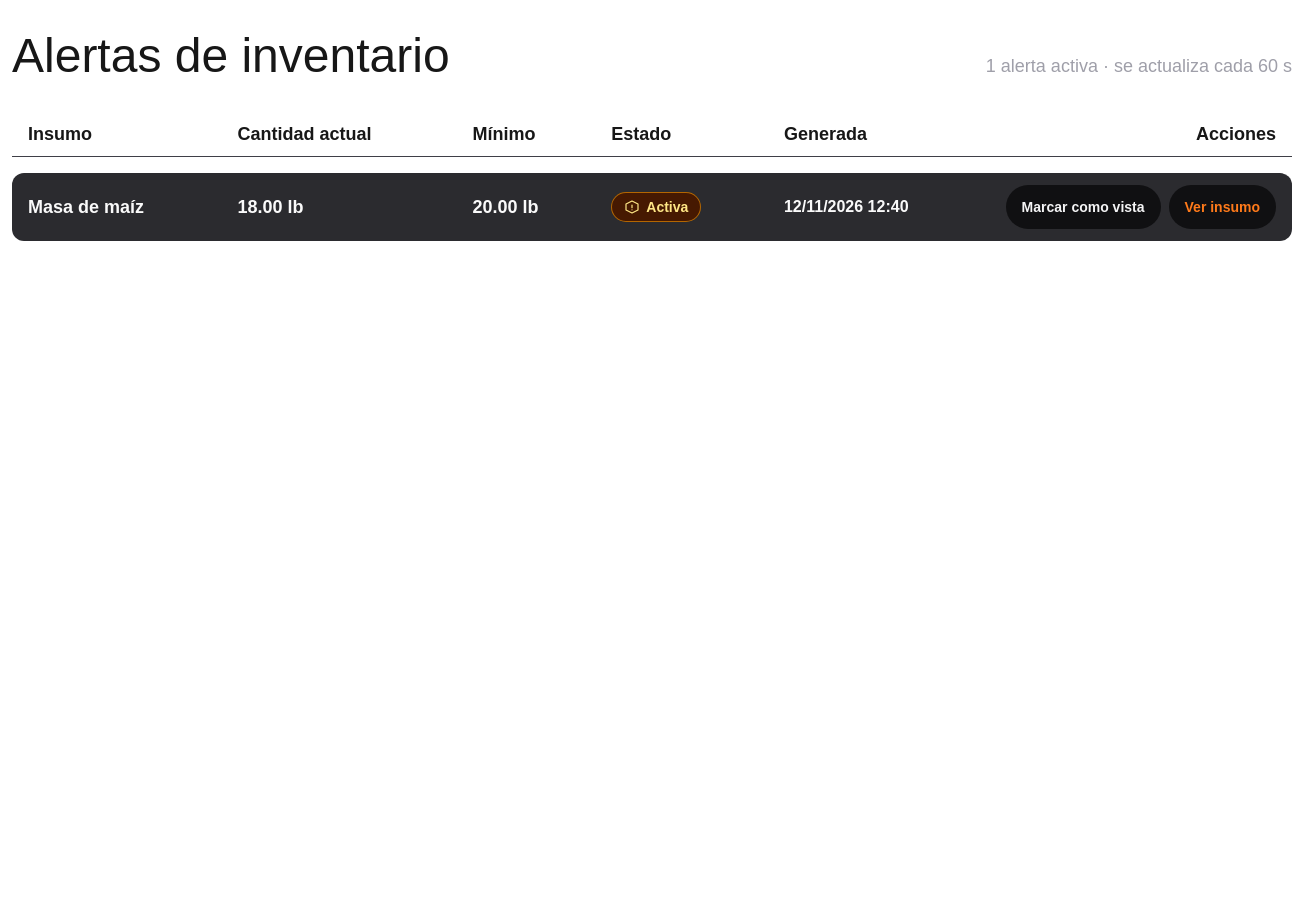
Test: panel de alertas (FE-15.1) › otro error: mensaje breve y el botón vuelve a habilitarse
The width and height of the screenshot is (1304, 900).
Click the button with aria-label "Marcar como vista la alerta de Masa de maíz".
click(1083, 207)  # box [1006,185,1161,229]
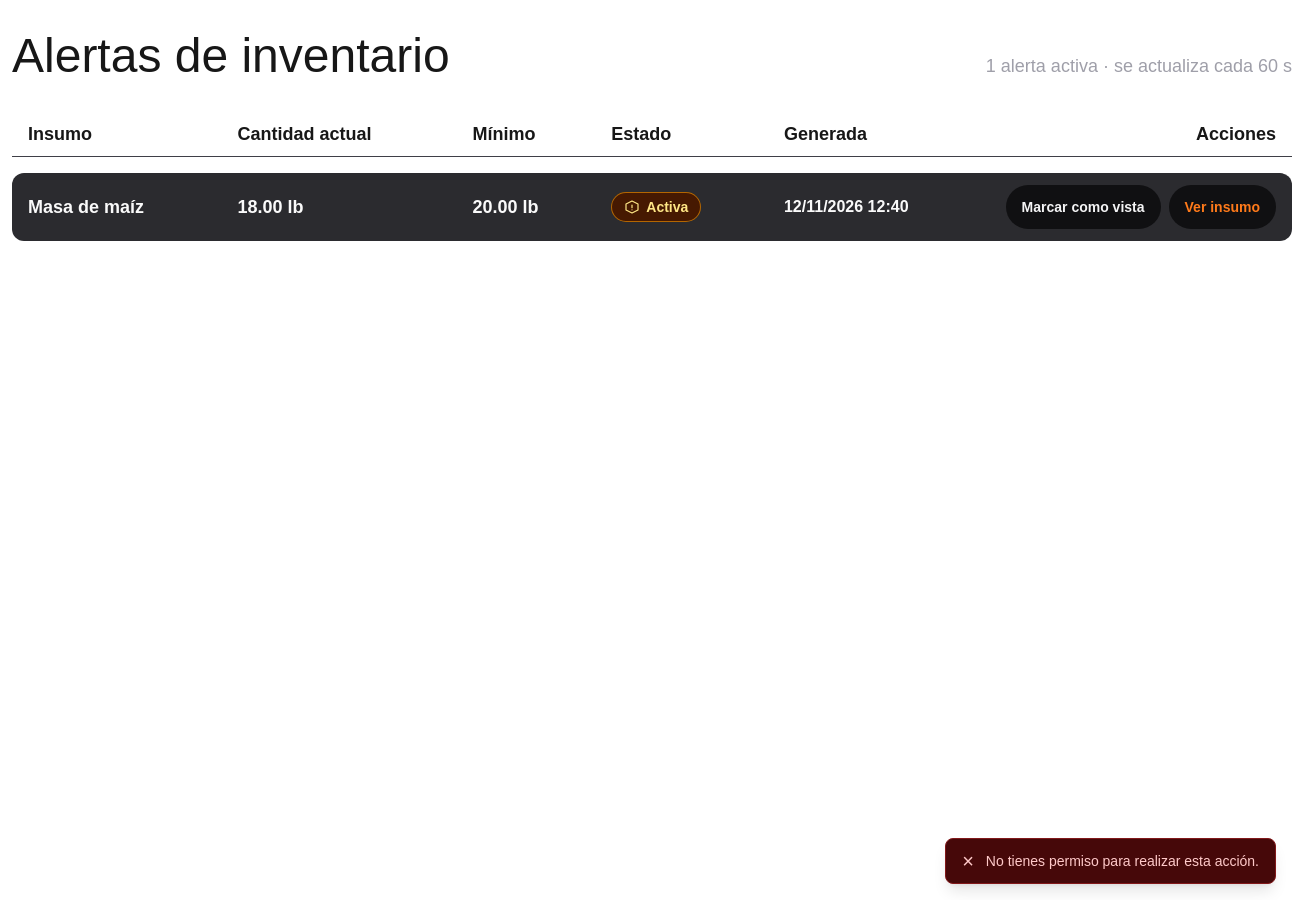
expect the text "No tienes permiso para realizar esta acción." is shown: met, box [986,853,1259,869]
